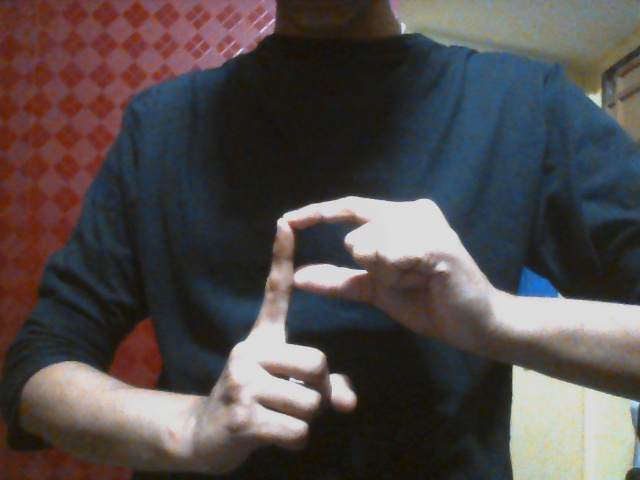P: (204, 194, 470, 472)
